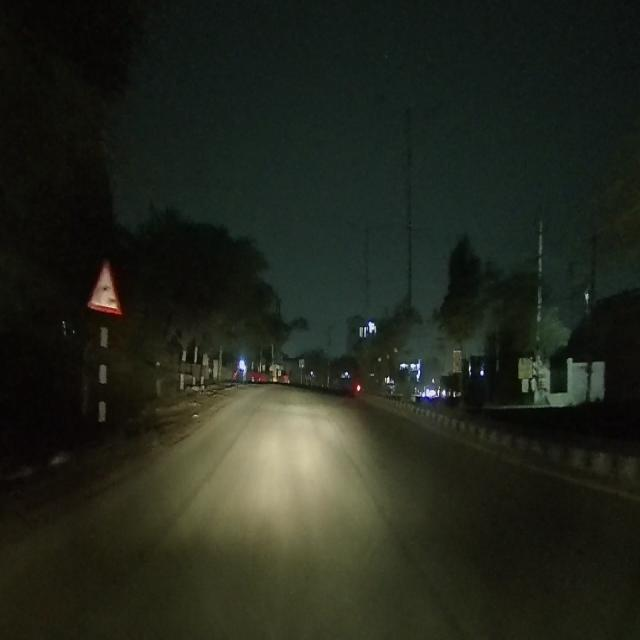right-hand-curve: (94, 262, 118, 309)
